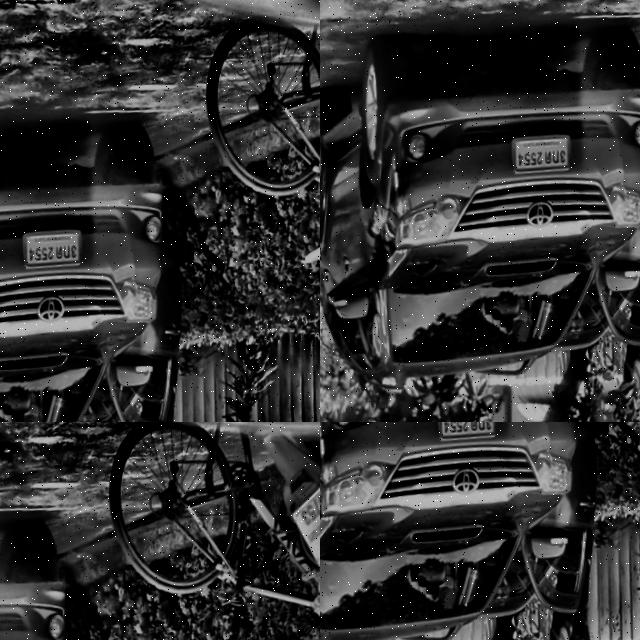license-plate: (430, 422, 495, 450)
